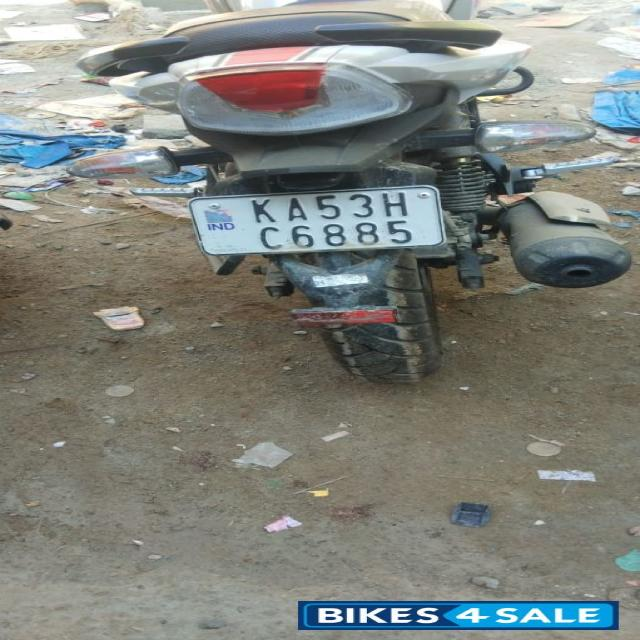number plate: (185, 184, 445, 255)
